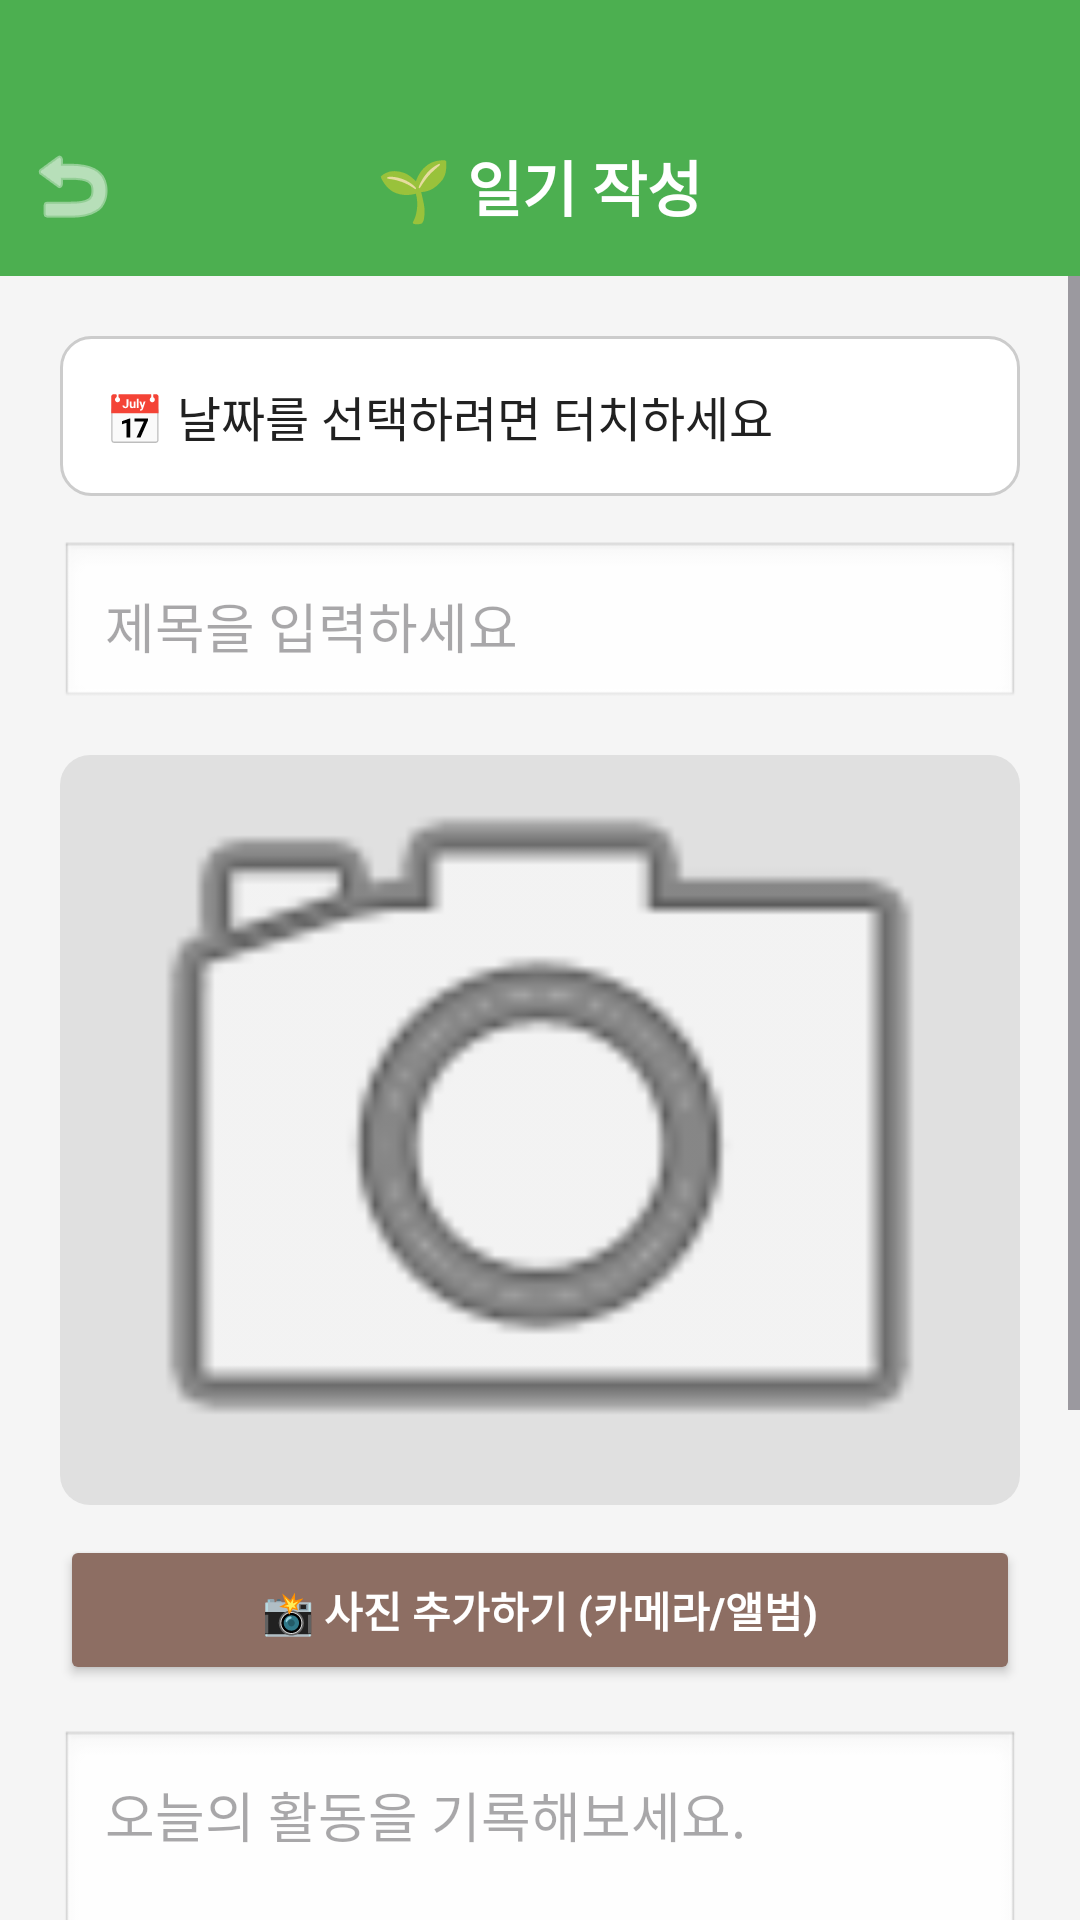

Named icons in this screenshot (1080 x 1920) and their bounding boxes, (x1=x1, y1=y1, x2=x2, y2=y2):
뒤로가기: (x1=39, y1=155, x2=108, y2=218)
